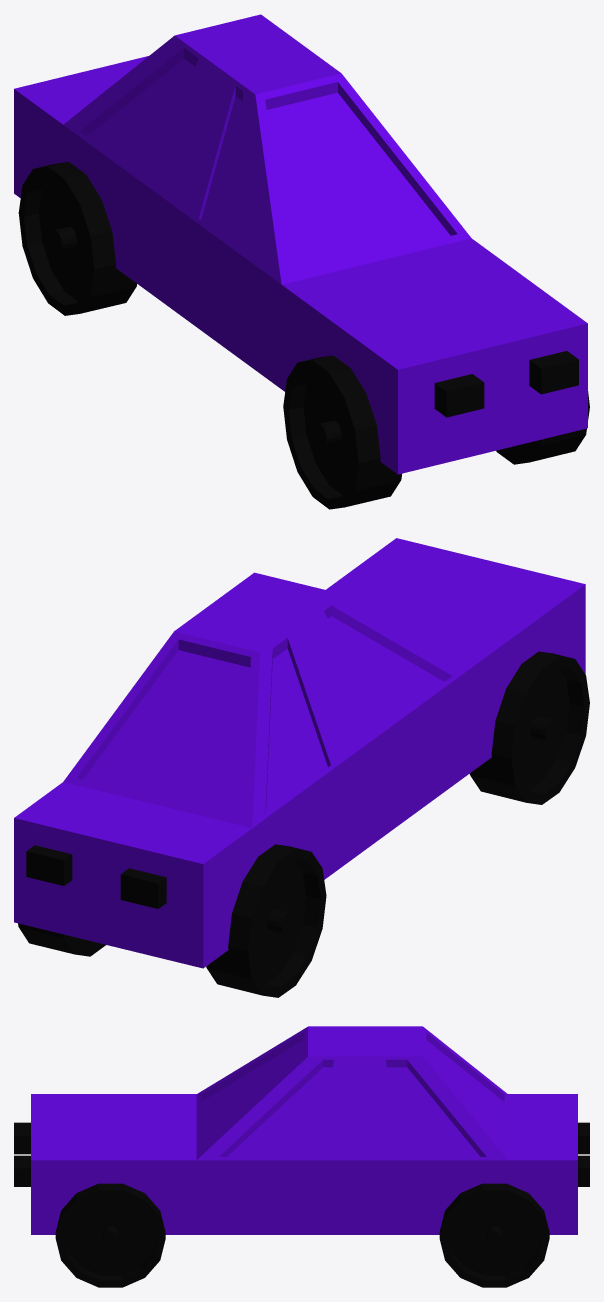
Rendered from car_squaremesh.glb.
3 renders of one model, top to bottom at view 1: azimuth 30°, elevation 25°; view 2: azimuth 150°, elevation 25°; view 3: azimuth 270°, elevation 25°, orthographic. The views are drawn at different scales.
Visible parts, largest first — view 1: Cube; view 2: Cube; view 3: Cube.
Boxes of the visible parts, left/top/right/bottom form: Cube: left=14, top=14, right=589, bottom=509; Cube: left=14, top=538, right=589, bottom=997; Cube: left=14, top=1026, right=589, bottom=1287.
Size of what is drawn, in the model's own units: 2.43 by 2.91 by 7.37.
